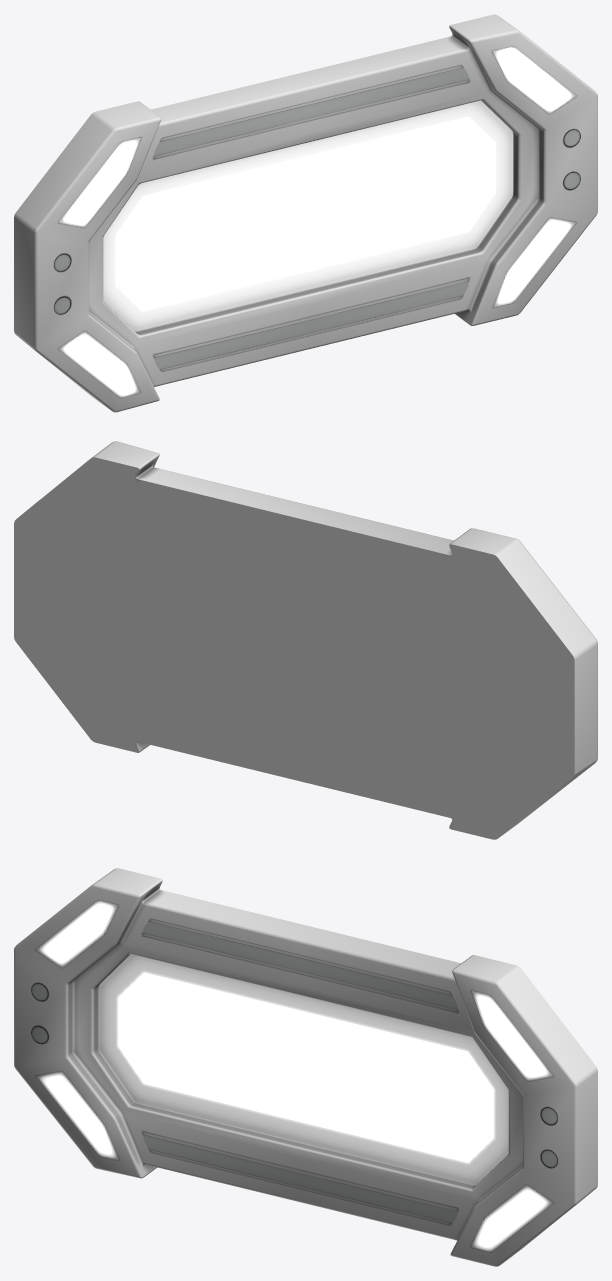
The model's file is LampWall01_2.FBX.
3 views of the same model, one above another, from view 1: azimuth 30°, elevation 25°; view 2: azimuth 150°, elevation 25°; view 3: azimuth 330°, elevation 25° (orthographic).
Parts seen in each view (by area): view 1: LampWall01_2; view 2: LampWall01_2; view 3: LampWall01_2.
Boxes of the visible parts, x1,y1,x2,y2 form: LampWall01_2: (14,14,597,412); LampWall01_2: (14,441,597,839); LampWall01_2: (14,868,597,1266).
Size of what is drawn, in the model's own units: 0.6795 by 0.3288 by 0.0481.
